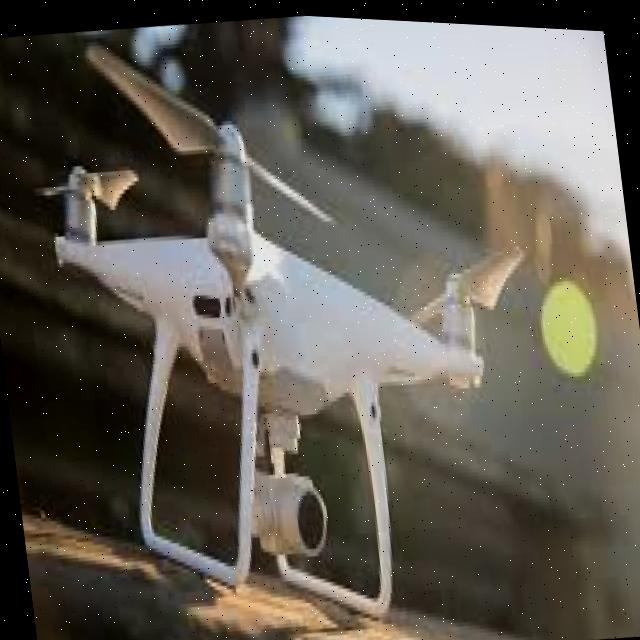drone: (8, 0, 575, 640)
